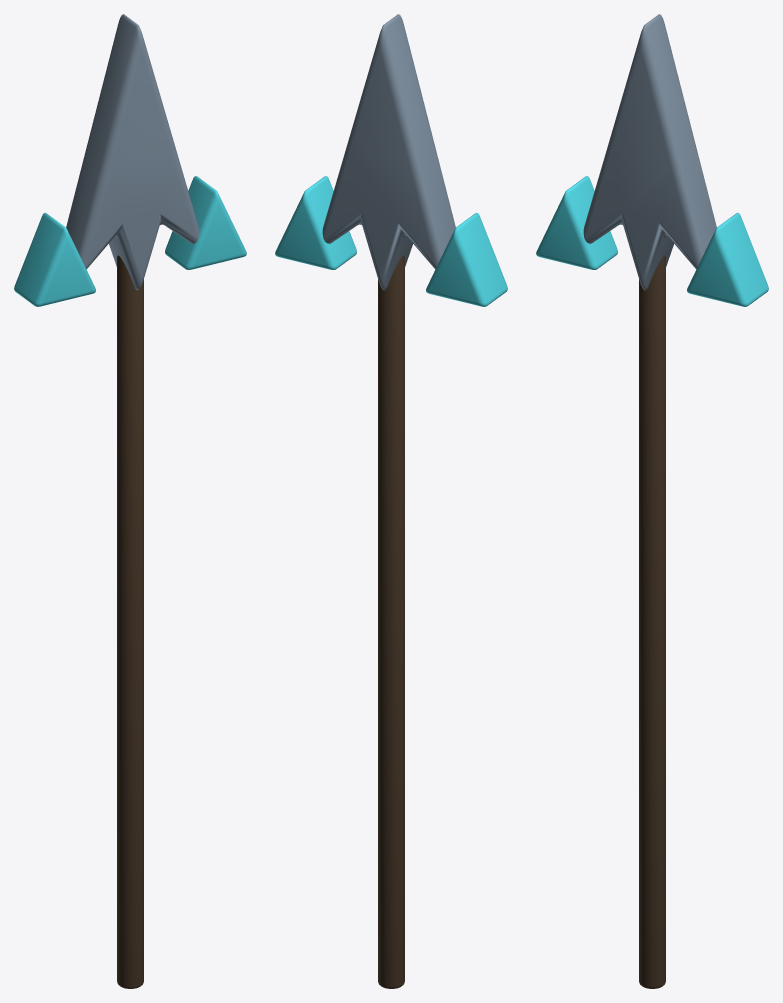
Rendered from spear_v4.glb.
The picture shows the model from 3 angles, left to right: view 1: azimuth 30°, elevation 25°; view 2: azimuth 150°, elevation 25°; view 3: azimuth 330°, elevation 25°; orthographic projection.
Parts seen in each view (by area): view 1: PARTISAN_HEAD_PRIMARY, SPEAR_SHAFT_SECONDARY, PARTISAN_LUG_ACCENT, PARTISAN_LUG_ACCENT.001; view 2: PARTISAN_HEAD_PRIMARY, SPEAR_SHAFT_SECONDARY, PARTISAN_LUG_ACCENT, PARTISAN_LUG_ACCENT.001; view 3: PARTISAN_HEAD_PRIMARY, SPEAR_SHAFT_SECONDARY, PARTISAN_LUG_ACCENT.001, PARTISAN_LUG_ACCENT.
Part boxes in pixels (x1,y1,x2,y2): PARTISAN_HEAD_PRIMARY: [66, 14, 199, 290]; SPEAR_SHAFT_SECONDARY: [117, 255, 143, 988]; PARTISAN_LUG_ACCENT: [14, 212, 95, 306]; PARTISAN_LUG_ACCENT.001: [165, 176, 246, 269]; PARTISAN_HEAD_PRIMARY: [322, 14, 455, 290]; SPEAR_SHAFT_SECONDARY: [378, 255, 404, 988]; PARTISAN_LUG_ACCENT: [426, 212, 507, 306]; PARTISAN_LUG_ACCENT.001: [275, 176, 356, 269]; PARTISAN_HEAD_PRIMARY: [583, 14, 716, 290]; SPEAR_SHAFT_SECONDARY: [639, 255, 665, 988]; PARTISAN_LUG_ACCENT.001: [687, 212, 768, 306]; PARTISAN_LUG_ACCENT: [536, 176, 617, 269].
Size of the model in its own units: 1.18 by 5.14 by 0.25.
